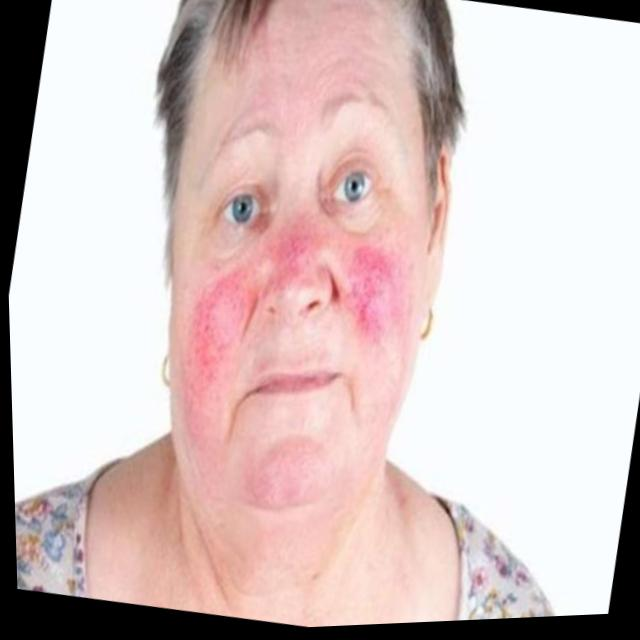Rosacea: (177, 208, 432, 395)
